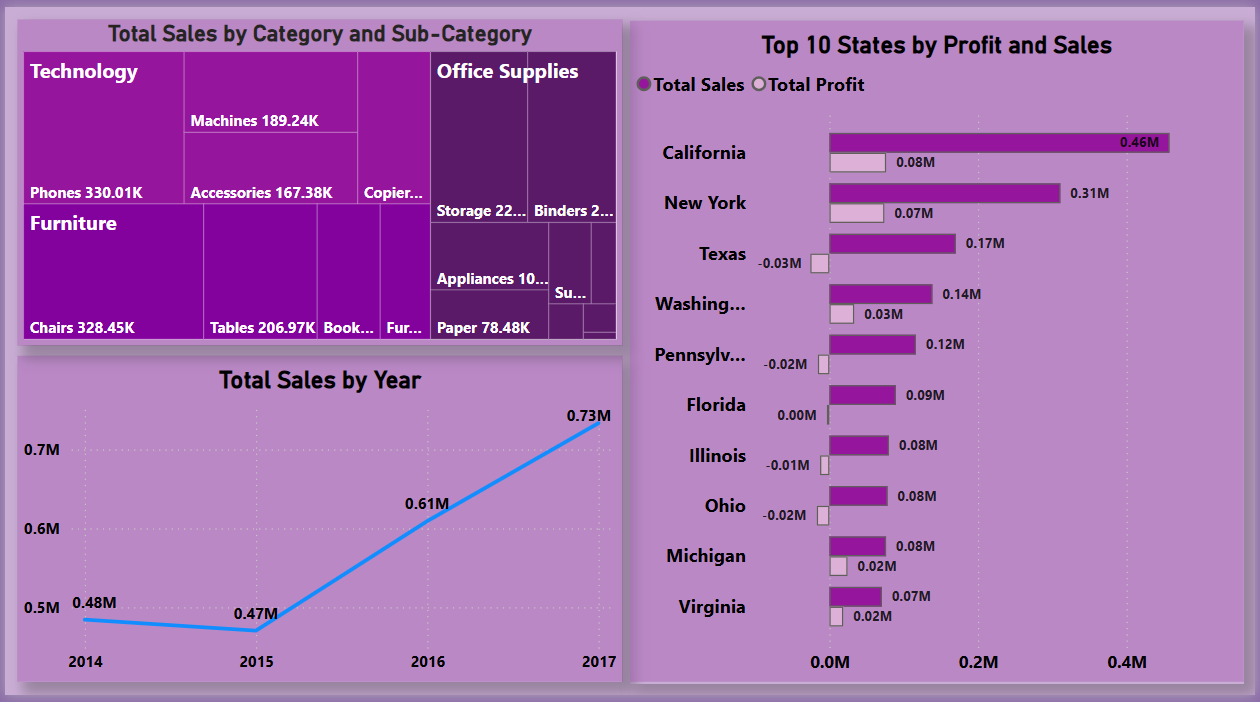

The dashboard page shown, as its layout file describes it:
{"tool":"powerbi","page":{"name":"sales & profit","canvas":[1000,550],"ordinal":1},"visuals":[{"type":"shape","box":[10,278.8,483.8,261.2],"z":0},{"type":"shape","box":[10,10,483.8,261.2],"z":1000},{"type":"treemap","fields":{"Group":["Sample - Superstore.Category"],"Details":["Sample - Superstore.Sub-Category"],"Values":["Sample - Superstore.Total Sales"]},"box":[10,10,483.8,261.2],"z":2000},{"type":"lineChart","fields":{"Category":["Calendar.Year"],"Y":["Sample - Superstore.Total Sales"]},"box":[10,278.8,483.8,261.2],"z":3000},{"type":"shape","box":[500,11.2,491.2,528.8],"z":4000},{"type":"clusteredBarChart","title":"Top 10 States by Profit and Sales","fields":{"Category":["Sample - Superstore.State"],"Y":["Sample - Superstore.Total Sales","Sample - Superstore.Total Profit"]},"box":[500,11.2,491.2,530],"z":5000}]}

Visuals, with their boxes in screenshot pixels (x1, y1, x2, y2), scaled from the page's 1000x550 canvas onto the 1260x702 screenshot:
shape: [x1=13, y1=356, x2=622, y2=689]
shape: [x1=13, y1=13, x2=622, y2=346]
treemap - Sample - Superstore.Category x Sample - Superstore.Sub-Category: [x1=13, y1=13, x2=622, y2=346]
lineChart - Calendar.Year x Sample - Superstore.Total Sales: [x1=13, y1=356, x2=622, y2=689]
shape: [x1=630, y1=14, x2=1249, y2=689]
"Top 10 States by Profit and Sales" clusteredBarChart: [x1=630, y1=14, x2=1249, y2=691]
